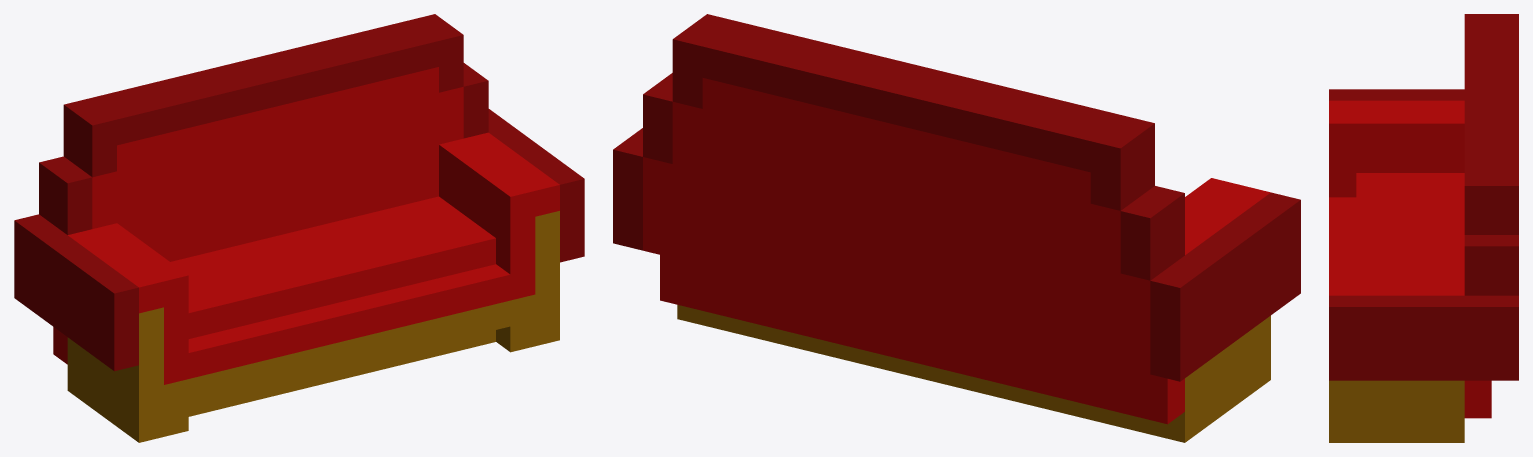
The model's file is Hotel furnitures-0.obj.
3 renders of one model, left to right at view 1: azimuth 30°, elevation 25°; view 2: azimuth 150°, elevation 25°; view 3: azimuth 270°, elevation 25°, orthographic. The views are drawn at different scales.
Parts seen in each view (by area): view 1: Hotel furnitures-0; view 2: Hotel furnitures-0; view 3: Hotel furnitures-0.
Part boxes in pixels (<box>): Hotel furnitures-0: <box>14,14,584,442</box>; Hotel furnitures-0: <box>613,14,1300,442</box>; Hotel furnitures-0: <box>1329,14,1518,442</box>.
Bounding box in the file's own units: 19 × 10 × 7.
Materials: 1 (1 with a texture image).
